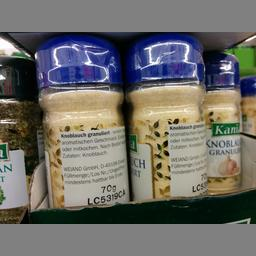spices: (33, 36, 129, 206), (126, 34, 204, 200), (202, 50, 242, 193)
